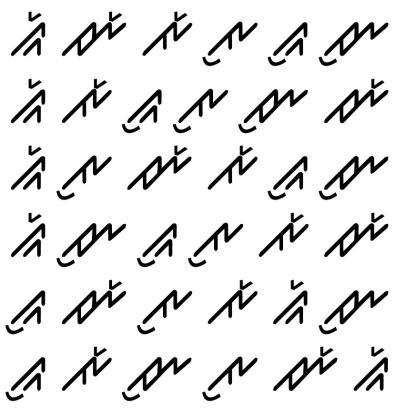ar: (60, 75, 117, 130), (251, 212, 313, 260), (204, 142, 260, 195), (141, 5, 194, 61), (206, 275, 260, 329), (60, 344, 114, 394)
aw: (200, 10, 258, 73), (51, 148, 113, 202), (202, 350, 260, 406), (170, 84, 229, 136), (135, 284, 193, 336), (183, 218, 243, 268)
nggar: (5, 72, 48, 130), (6, 5, 50, 60), (347, 343, 392, 396), (268, 276, 310, 332), (7, 142, 46, 198), (8, 209, 49, 262)
nggaw: (266, 13, 311, 75), (264, 146, 313, 202), (3, 351, 50, 407), (4, 283, 50, 338), (134, 219, 179, 270), (121, 83, 163, 136)
njar: (59, 3, 130, 62), (272, 339, 340, 396), (125, 142, 197, 194), (318, 212, 393, 261), (62, 276, 129, 330), (323, 76, 391, 128)
njaw: (318, 14, 390, 72), (318, 150, 398, 202), (234, 82, 310, 135), (118, 351, 195, 402), (57, 221, 129, 269), (317, 288, 392, 334)
